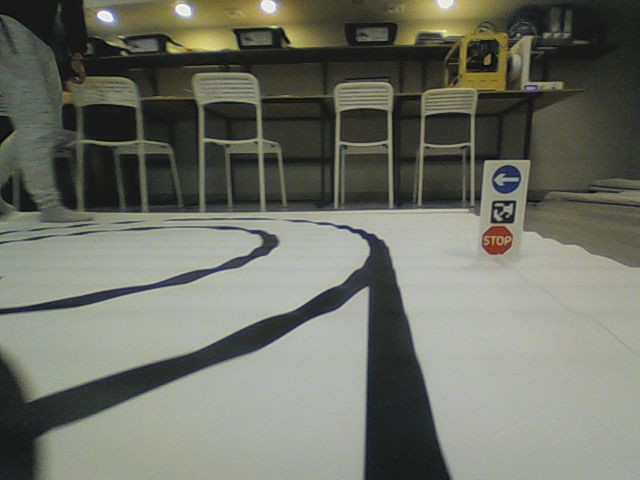Stop: (480, 225, 513, 255)
